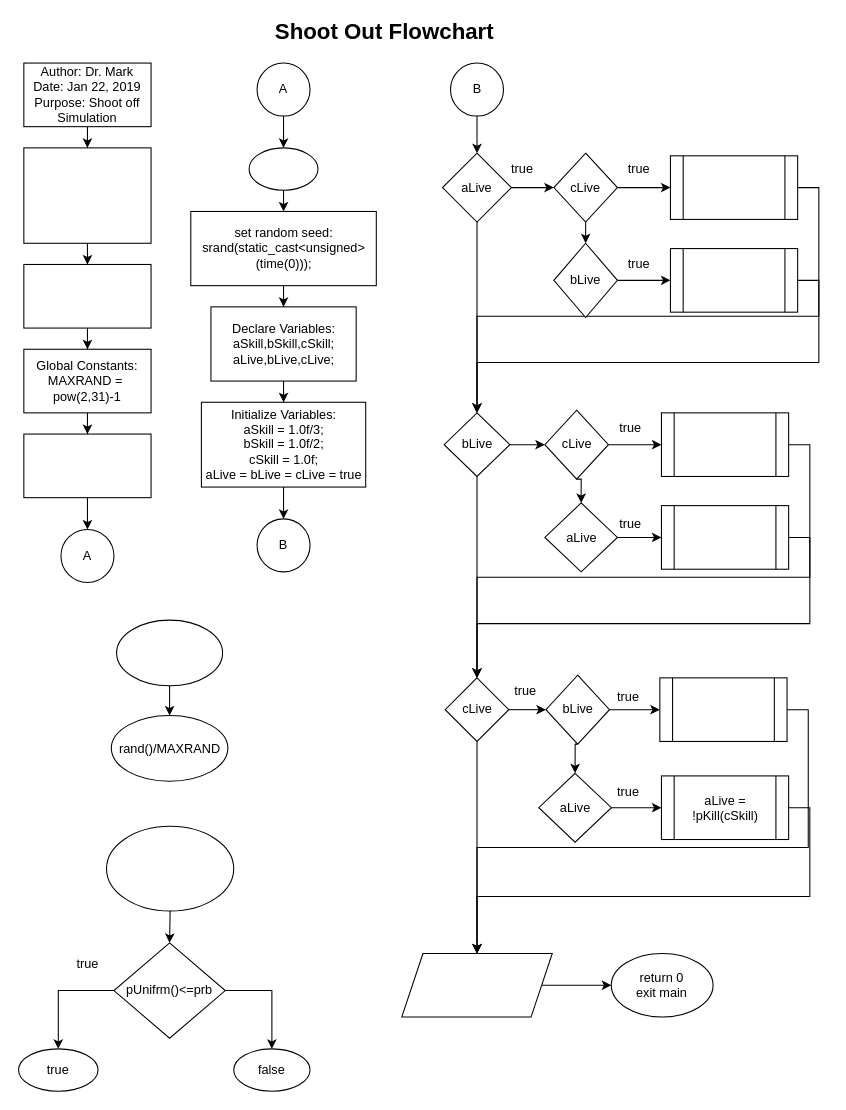
Some shapes in this 846 by 1110 pixel diagram are drawn without their labels. The centre of each missing label's shape, as x and y in pixels:
aLive = !pKill(bSkill): point 724,537
bLive = !pKill(aSkill): point 733,280
bLive = !pKill(cSkill): point 723,709
bool pKill(float prb): point 169,868
cLive = !pKill(aSkill): point 733,187
cLive = !pKill(bSkill): point 724,444
Display who's dead and who's alive: point 476,984
float pUnifrm(): point 169,652
Function Prototypes: pUnifrm(); pKill(float);: point 87,465
main: point 283,168
System Libraries: iostream cstdlib ctime cmath iomanip: point 87,195
User Libraries: None: point 87,295
